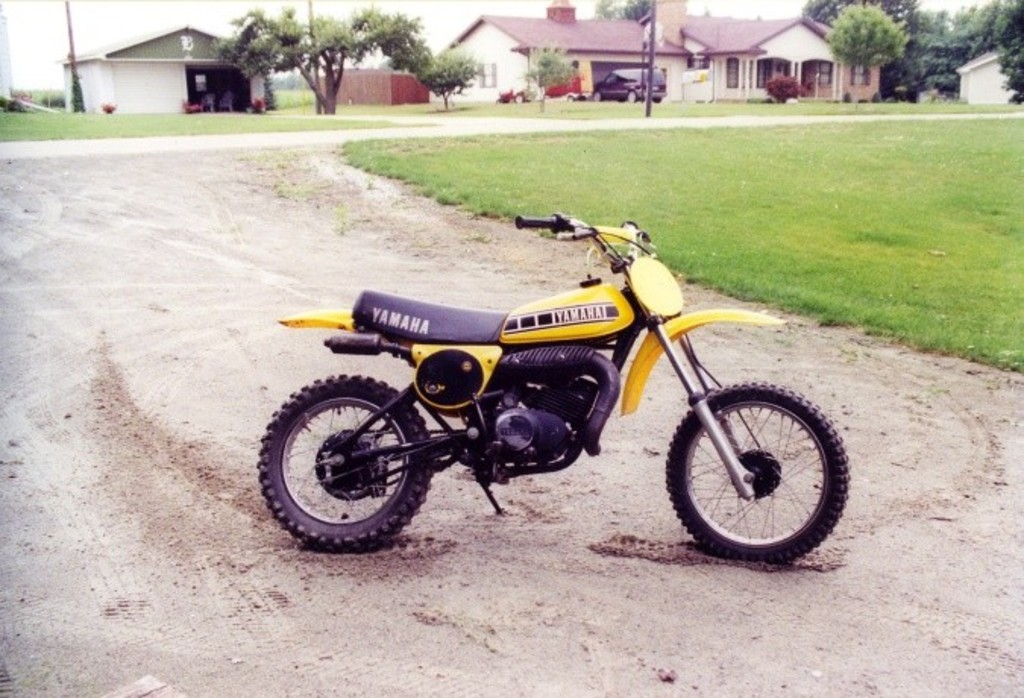Tree: (212, 0, 432, 115), (798, 0, 1024, 106), (416, 40, 485, 110), (523, 39, 579, 110), (593, 0, 651, 24)
